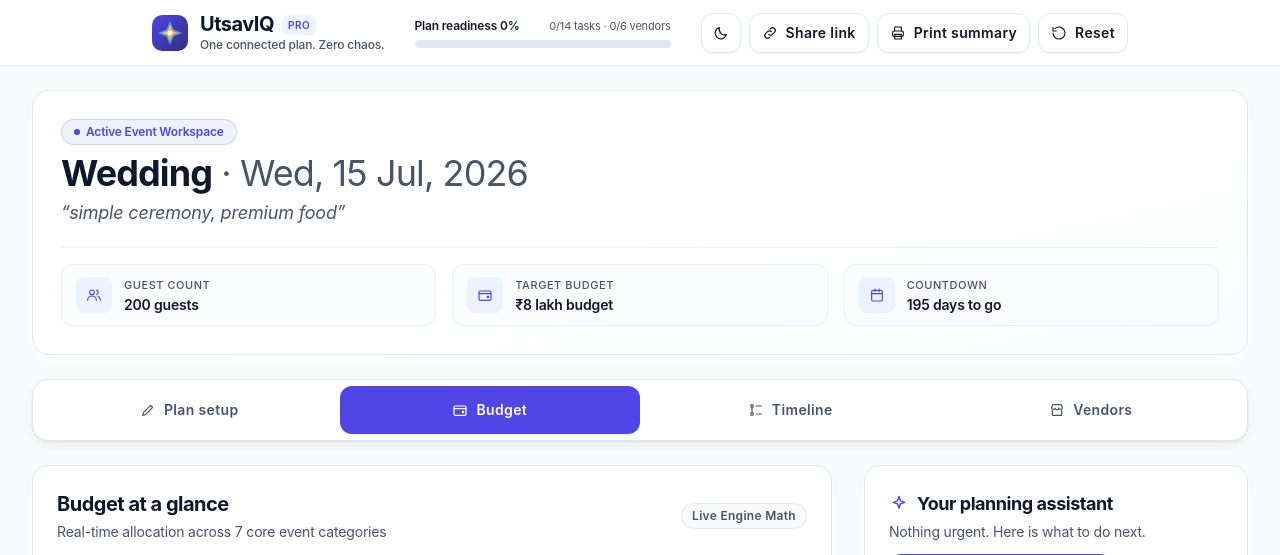
Test: budget interactions › invalid amount shows an error without changing anything
Click the tab "Budget" at (490, 410), box [340, 386, 640, 434]
(page scrolled)
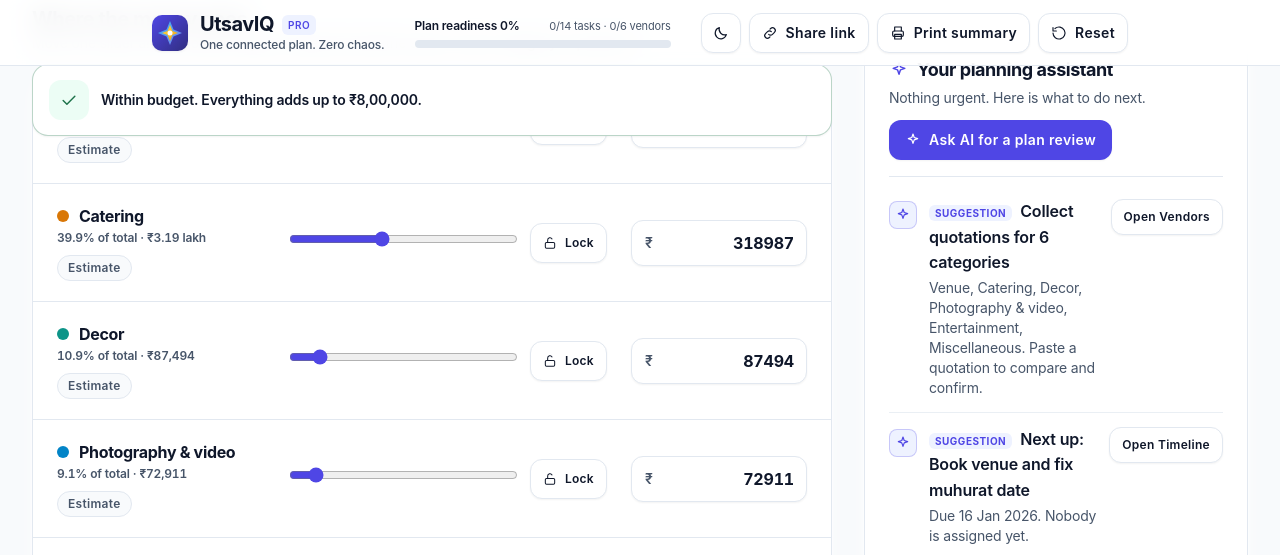
Replace the text in the field named "Decor amount (₹)" in the row of "₹87,494" with "abc" at (719, 360), box [631, 338, 807, 384]
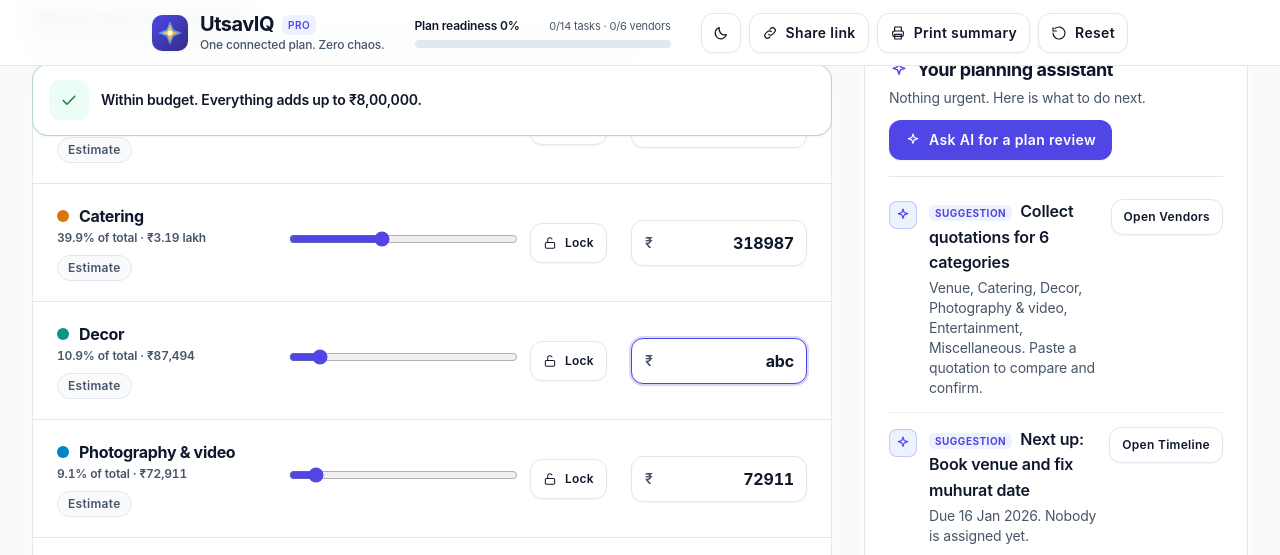
Press Tab
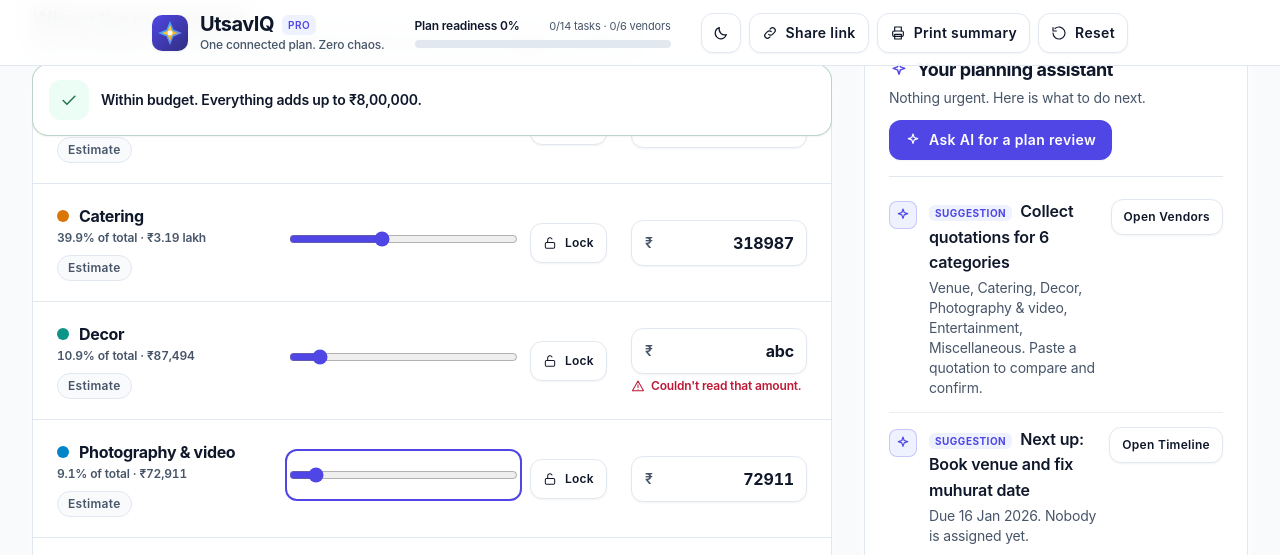
Check: the text "Couldn't read that amount." is shown, box [631, 378, 807, 394]
